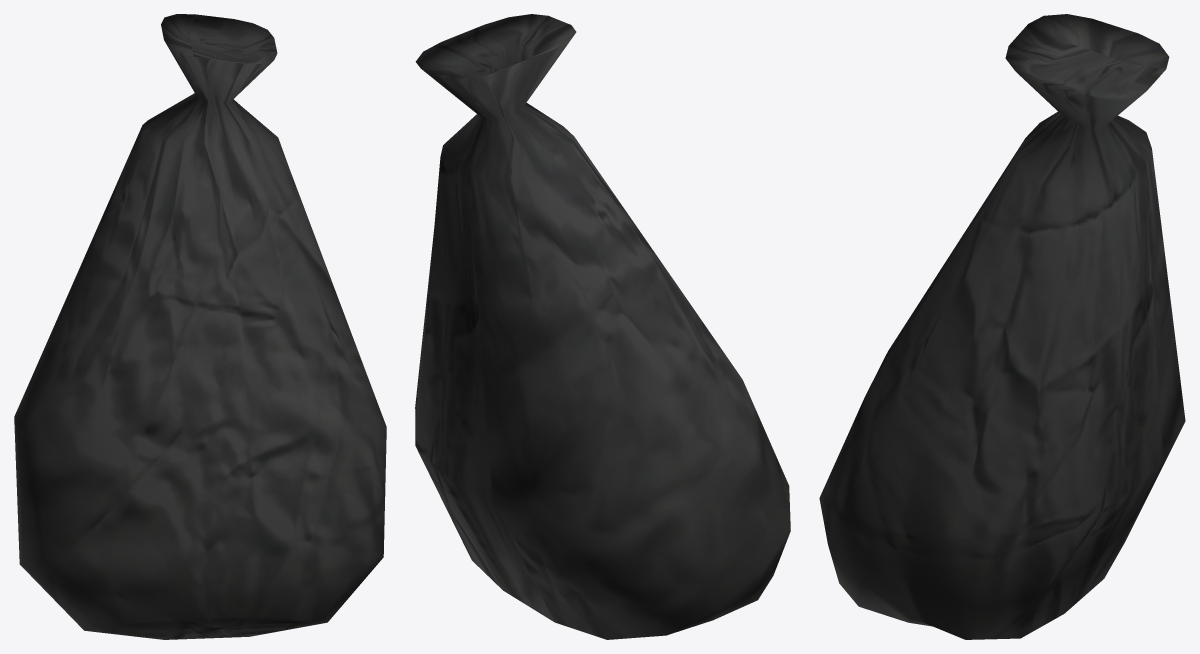
File: BolsaBasura.FBX
3 renders of one model, left to right at view 1: azimuth 30°, elevation 25°; view 2: azimuth 150°, elevation 25°; view 3: azimuth 270°, elevation 25°, orthographic. The views are drawn at different scales.
Parts seen in each view (by area): view 1: BolsaBasura2; view 2: BolsaBasura2; view 3: BolsaBasura2.
Part boxes in pixels (bbox=[...]): BolsaBasura2: bbox=[14, 14, 386, 639]; BolsaBasura2: bbox=[415, 14, 790, 639]; BolsaBasura2: bbox=[819, 14, 1185, 639].
Bounding box in the file's own units: 16.44 × 25.69 × 14.59.
